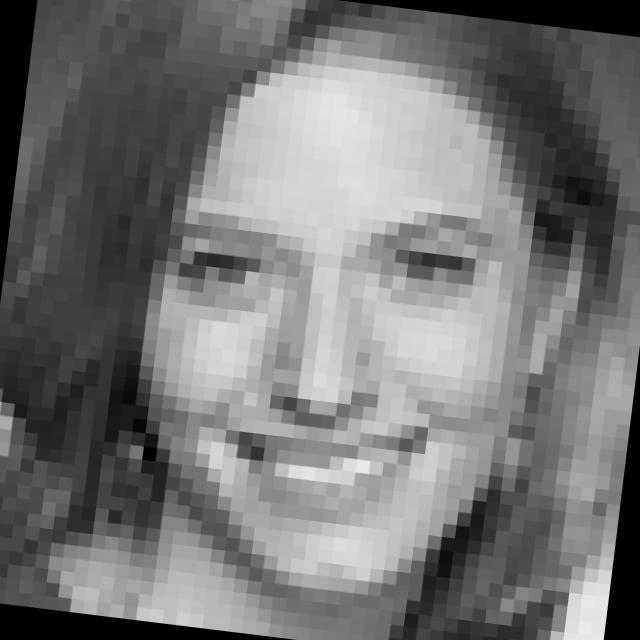happy: (136, 174, 508, 547)
